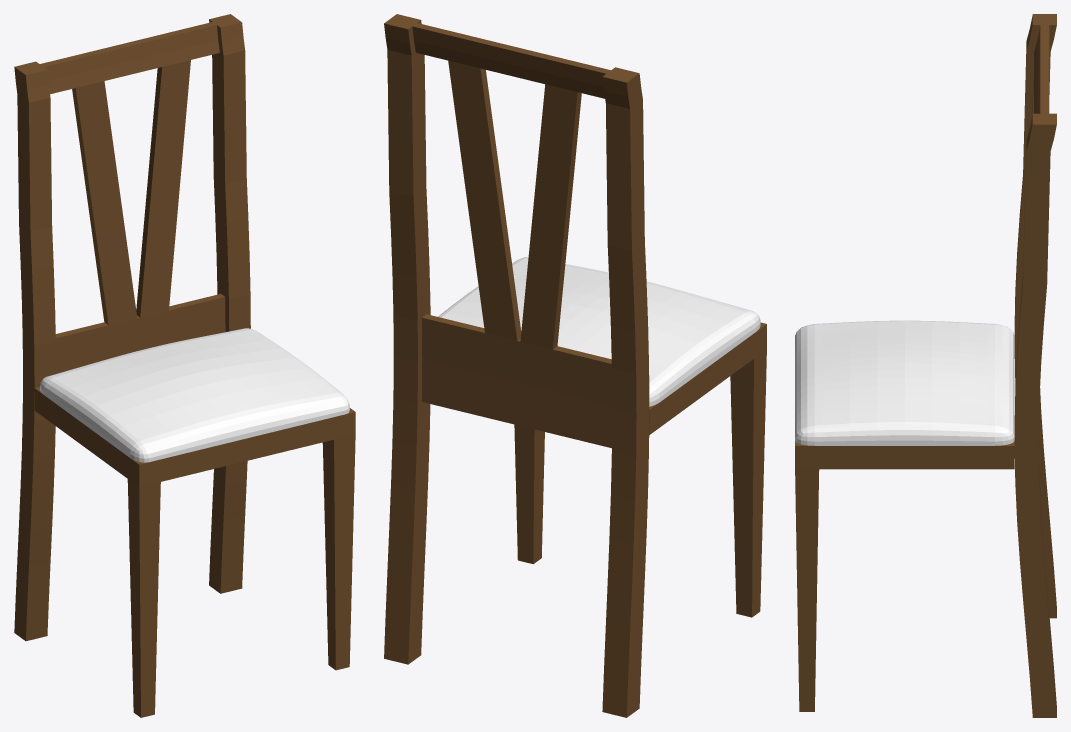
Rendered from vBackrestChair.fbx.
3 views of the same model, side by side, from view 1: azimuth 30°, elevation 25°; view 2: azimuth 150°, elevation 25°; view 3: azimuth 270°, elevation 25° (orthographic). The views are drawn at different scales.
Visible parts, largest first — view 1: chair; view 2: chair; view 3: chair.
Part boxes in pixels (x1,y1,x2,y2): chair: (14,14,355,717); chair: (384,14,766,717); chair: (795,14,1056,717).
Bounding box in the file's own units: 40 × 100 × 40.
